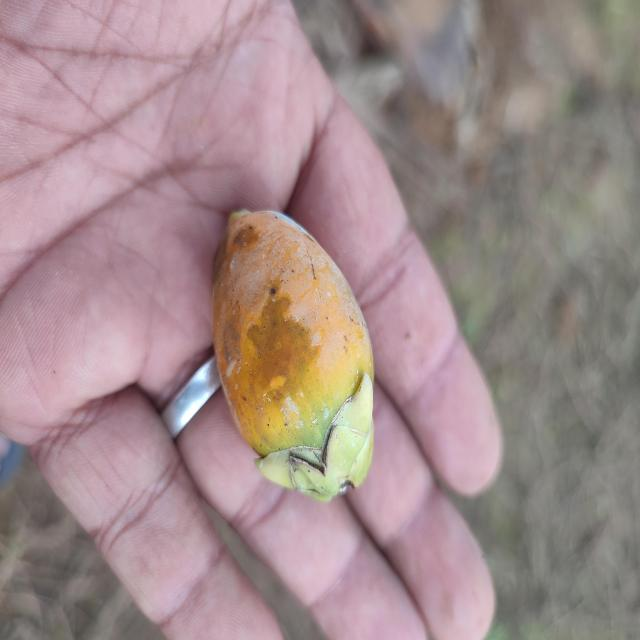damaged: (211, 210, 375, 505)
